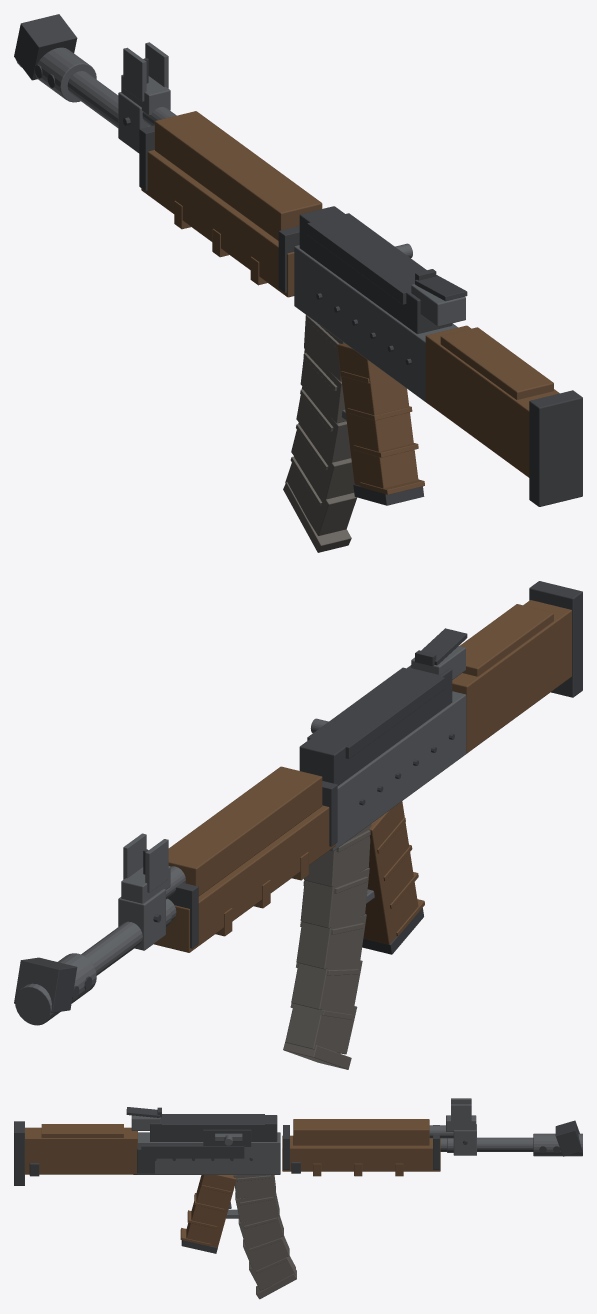
The model's file is guard_rifle.glb.
3 views of the same model, one above another, from view 1: azimuth 30°, elevation 25°; view 2: azimuth 150°, elevation 25°; view 3: azimuth 270°, elevation 25° (orthographic). The views are drawn at different scales.
Visible parts, largest first — view 1: w_ak74_merged_GunWood, w_ak74_merged_GunSteelDark, w_ak74_merged_GunSteel, w_ak74_merged_GunAccent; view 2: w_ak74_merged_GunWood, w_ak74_merged_GunSteel, w_ak74_merged_GunSteelDark, w_ak74_merged_GunAccent; view 3: w_ak74_merged_GunWood, w_ak74_merged_GunSteelDark, w_ak74_merged_GunSteel, w_ak74_merged_GunAccent.
Part boxes in pixels (left/top/right/bottom): w_ak74_merged_GunWood: left=141, top=111, right=559, bottom=494; w_ak74_merged_GunSteelDark: left=14, top=14, right=582, bottom=506; w_ak74_merged_GunSteel: left=15, top=42, right=465, bottom=420; w_ak74_merged_GunAccent: left=283, top=315, right=356, bottom=552; w_ak74_merged_GunWood: left=154, top=600, right=571, bottom=952; w_ak74_merged_GunSteel: left=15, top=646, right=466, bottom=1025; w_ak74_merged_GunSteelDark: left=14, top=581, right=582, bottom=1012; w_ak74_merged_GunAccent: left=283, top=824, right=371, bottom=1069; w_ak74_merged_GunWood: left=25, top=1119, right=440, bottom=1247; w_ak74_merged_GunSteelDark: left=14, top=1107, right=582, bottom=1253; w_ak74_merged_GunSteel: left=131, top=1098, right=582, bottom=1218; w_ak74_merged_GunAccent: left=233, top=1175, right=296, bottom=1299.
Size of the model in its own units: 0.067 by 0.3107 by 0.827.
